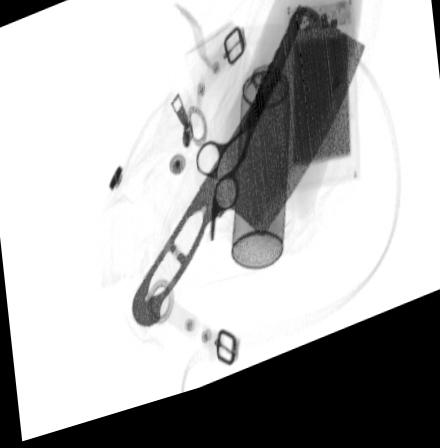Knife: (133, 21, 365, 333)
Powerbank: (286, 14, 361, 210)
Scissors: (195, 24, 308, 255)
Sprayer: (232, 38, 293, 284)
